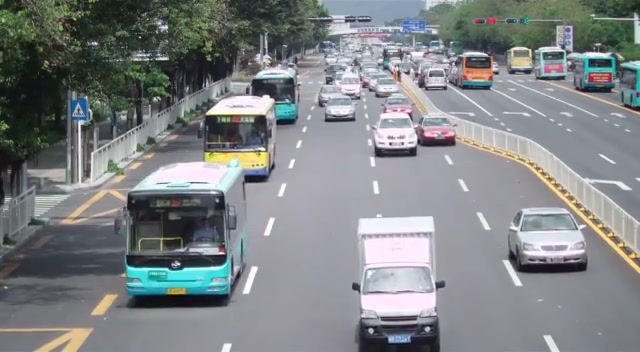bus: (118, 161, 249, 302), (202, 94, 278, 181), (251, 66, 300, 124), (568, 52, 617, 92), (450, 51, 495, 89), (534, 46, 567, 80), (619, 60, 640, 109), (506, 47, 533, 75)
car: (507, 206, 588, 272), (372, 113, 418, 157), (415, 115, 456, 146), (381, 94, 415, 122), (324, 96, 356, 122), (423, 68, 448, 91), (317, 85, 341, 107), (374, 78, 401, 97)
pedestrian: (192, 216, 219, 242)
truck: (353, 215, 444, 352)
